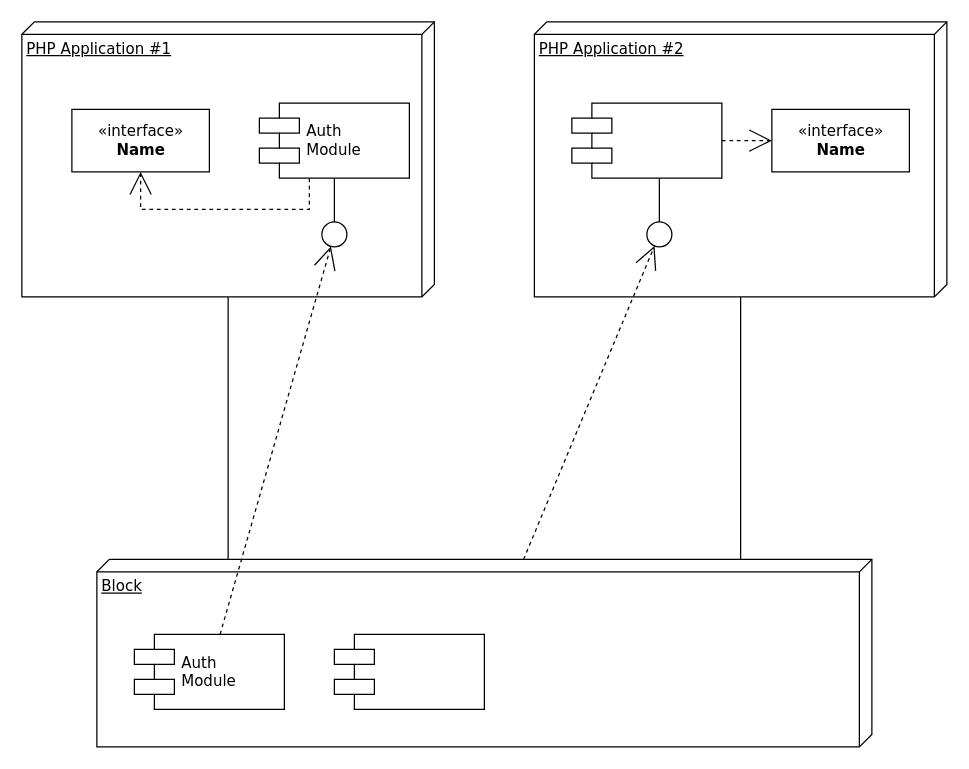
This 969x769 diagram has some shape labels left out. Each missing label, with the centre of its shape:
Metrics Module: (x=408, y=671)
Module: (x=646, y=140)
